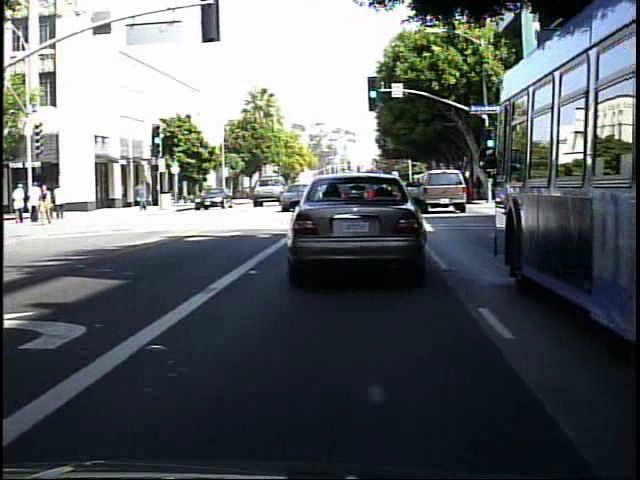person: (12, 180, 31, 226), (132, 177, 151, 214), (37, 184, 53, 227), (29, 180, 44, 224), (54, 181, 69, 221), (44, 184, 58, 220), (474, 169, 489, 202)
